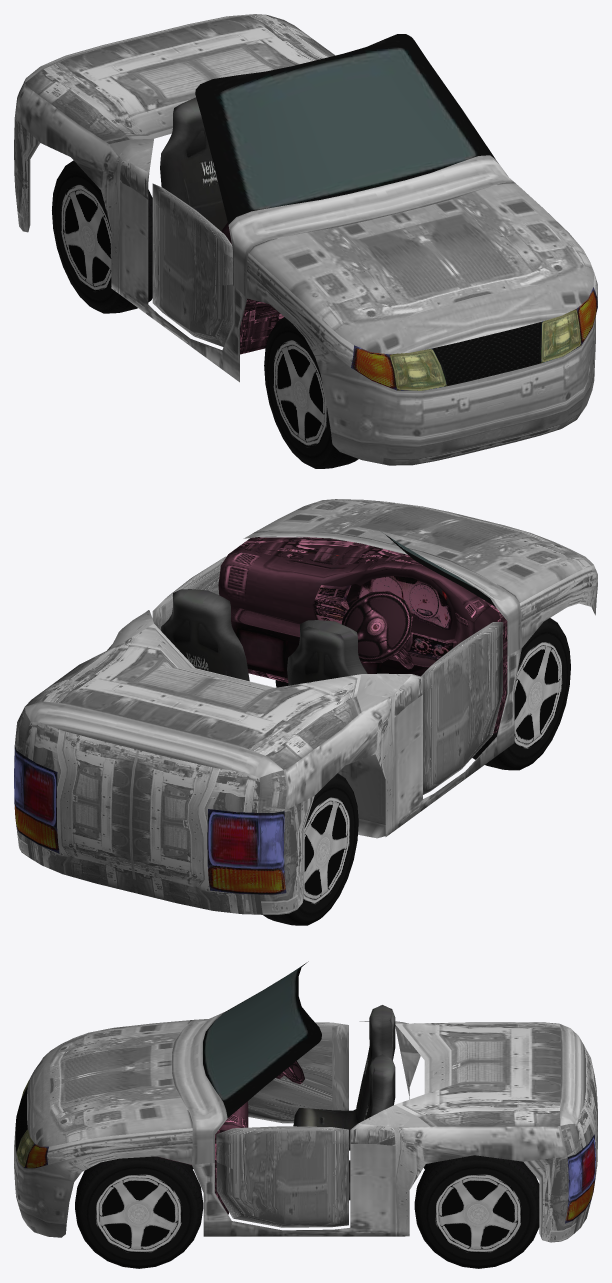
Rendered from car4.gltf.
3 views of the same model, one above another, from view 1: azimuth 30°, elevation 25°; view 2: azimuth 150°, elevation 25°; view 3: azimuth 270°, elevation 25° (orthographic). The views are drawn at different scales.
Visible parts, largest first — view 1: main obj, right_rear_wheel, right_front_wheel; view 2: main obj, right_front_wheel, right_rear_wheel; view 3: main obj, left_front_wheel, left_rear_wheel.
Part boxes in pixels (x1,y1,x2,y2): main obj: [14, 14, 597, 465]; right_rear_wheel: [52, 160, 152, 313]; right_front_wheel: [264, 317, 358, 468]; main obj: [14, 499, 597, 914]; right_front_wheel: [472, 618, 570, 770]; right_rear_wheel: [263, 773, 358, 925]; main obj: [14, 961, 597, 1242]; left_front_wheel: [75, 1156, 203, 1268]; left_rear_wheel: [414, 1155, 539, 1268].
Size of the model in its own units: 1.35 by 1.42 by 3.08.
